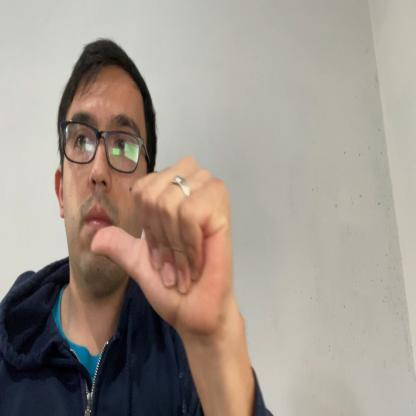A: (91, 155, 235, 333)
